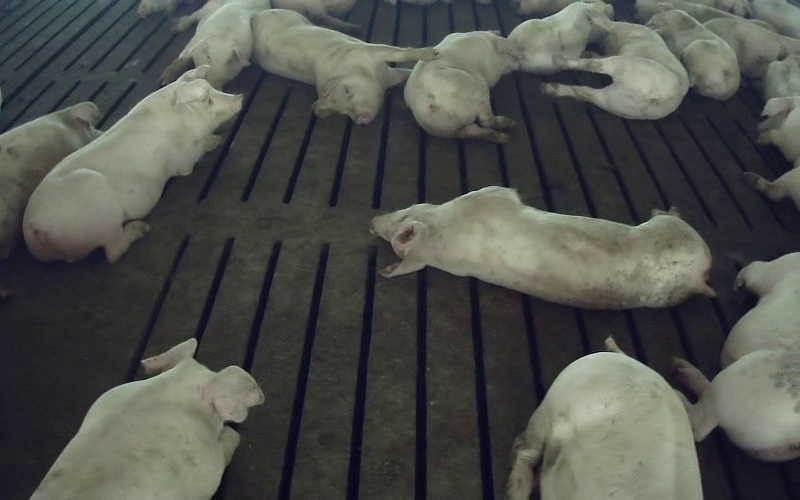pig: (23, 67, 241, 261), (371, 186, 714, 308), (31, 339, 263, 499), (506, 338, 702, 499), (672, 253, 799, 460), (252, 10, 434, 124), (0, 102, 100, 259), (404, 31, 518, 142), (647, 10, 739, 99), (507, 0, 612, 73)
